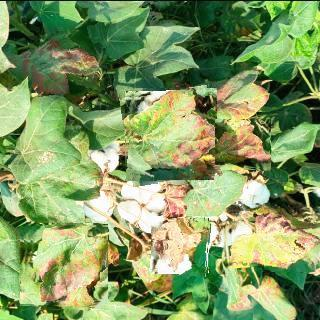blight: (122, 87, 217, 183), (21, 222, 108, 308), (232, 203, 320, 271), (31, 26, 107, 93), (151, 216, 210, 274), (215, 118, 271, 169)
